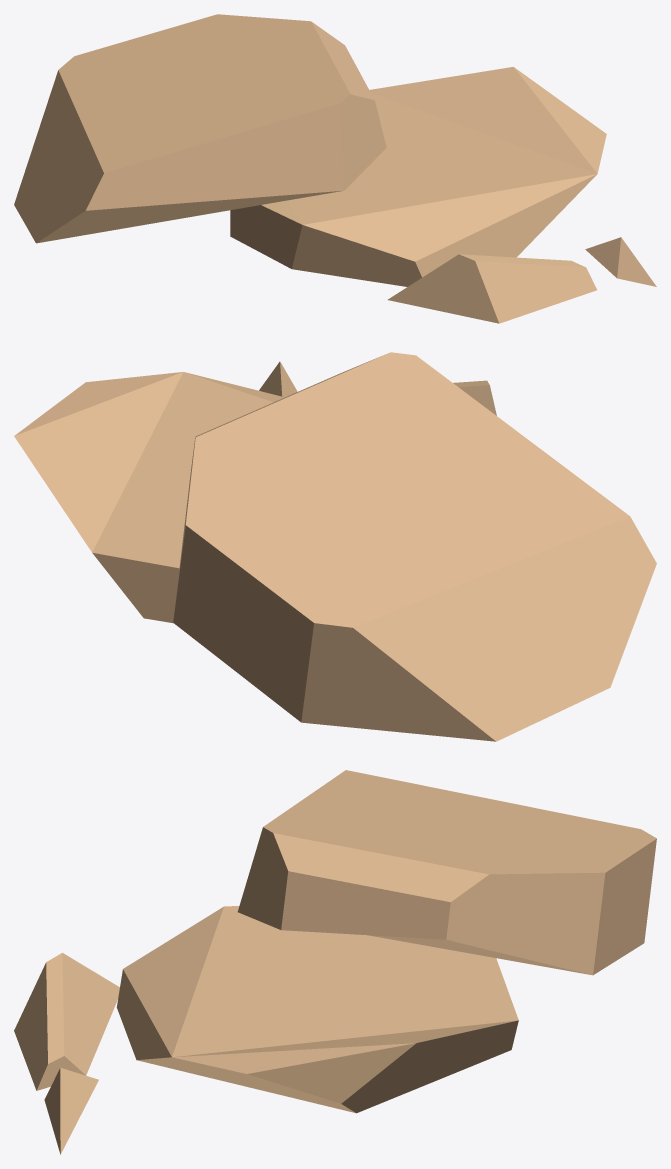
Rendered from Rock_Flat_crk_m_04.fbx.
3 views of the same model, one above another, from view 1: azimuth 30°, elevation 25°; view 2: azimuth 150°, elevation 25°; view 3: azimuth 270°, elevation 25° (orthographic). The views are drawn at different scales.
Parts seen in each view (by area): view 1: Rock_Flat_crk_m_04; view 2: Rock_Flat_crk_m_04; view 3: Rock_Flat_crk_m_04.
Part boxes in pixels (bbox=[...]): Rock_Flat_crk_m_04: bbox=[14, 14, 656, 323]; Rock_Flat_crk_m_04: bbox=[14, 352, 656, 741]; Rock_Flat_crk_m_04: bbox=[14, 770, 656, 1154].
Size of the model in its own units: 201 by 69.76 by 201.
